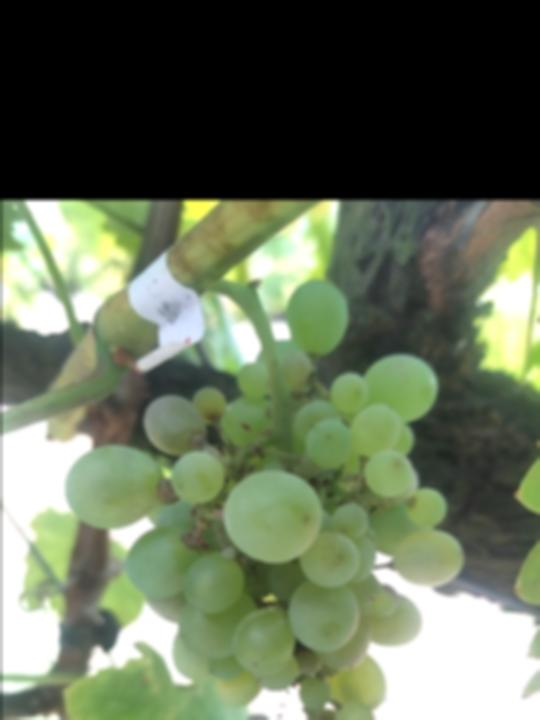grape: (61, 278, 469, 720)
